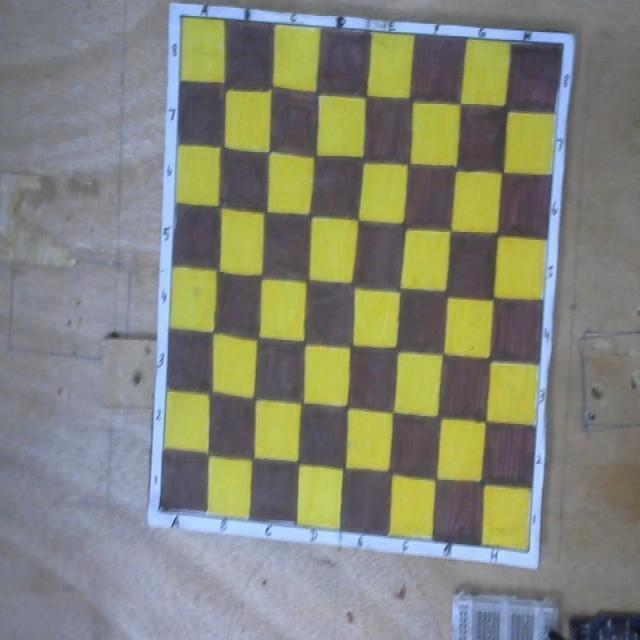chess-table-corners: (179, 13, 184, 20), (158, 504, 162, 512), (526, 547, 530, 554), (560, 42, 564, 48)
